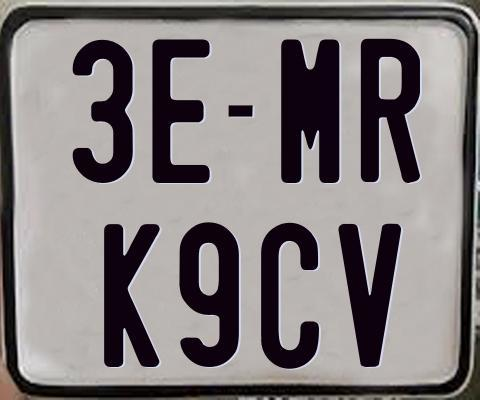3: (69, 37, 136, 183)
9: (176, 219, 236, 368)
C: (261, 220, 319, 369)
E: (149, 39, 210, 188)
K: (101, 222, 162, 370)
M: (278, 39, 336, 186)
R: (359, 36, 423, 185)
V: (337, 224, 400, 368)
